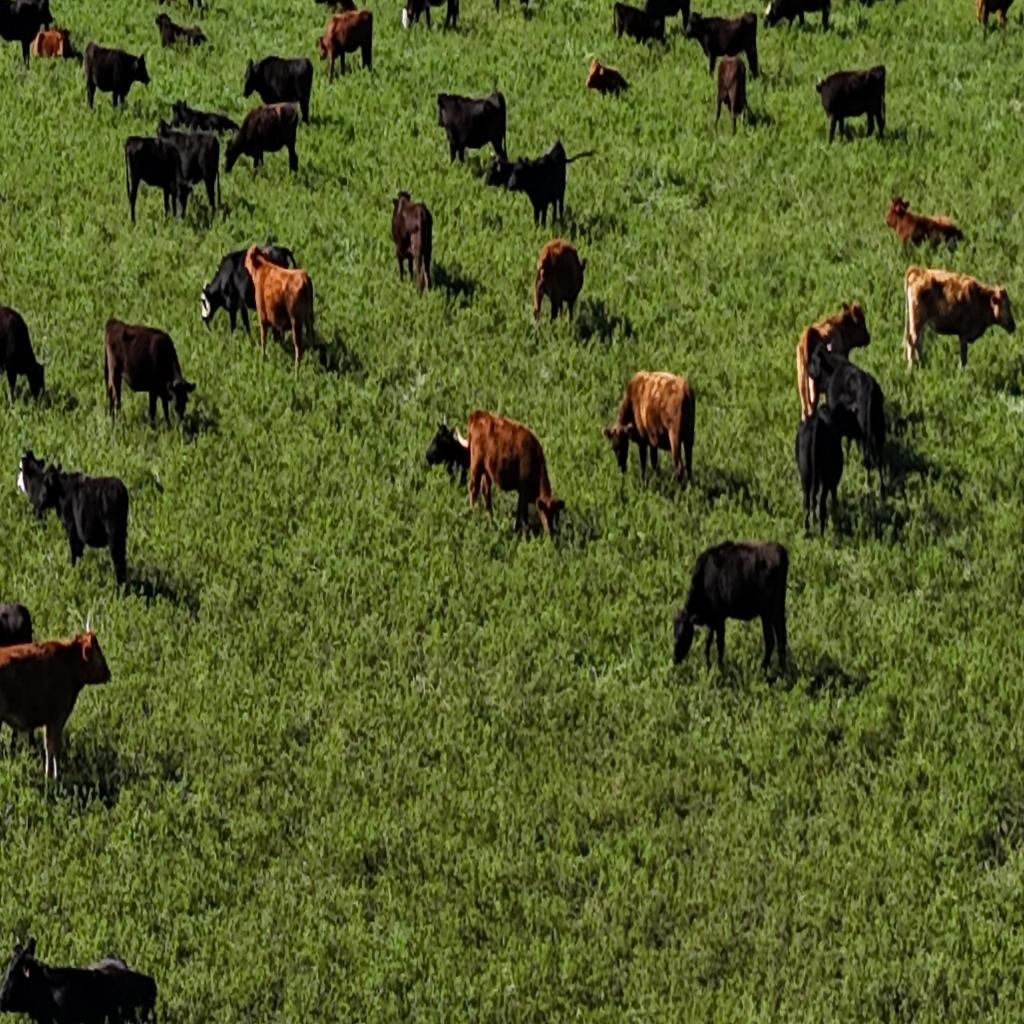cow: (650, 528, 833, 700), (0, 611, 112, 789), (21, 454, 138, 588), (464, 407, 568, 544), (2, 933, 156, 1024), (809, 339, 909, 463), (602, 368, 696, 490), (904, 266, 1014, 370), (105, 318, 198, 434), (790, 397, 856, 546), (200, 240, 293, 335), (479, 131, 567, 230), (125, 133, 214, 227), (226, 102, 300, 178), (816, 65, 887, 144), (437, 89, 505, 165), (686, 10, 758, 80), (243, 53, 312, 124), (533, 236, 586, 328), (0, 302, 45, 406), (84, 42, 150, 112), (884, 196, 962, 255), (391, 189, 433, 295), (318, 8, 372, 81), (0, 0, 55, 71), (424, 418, 470, 486), (715, 54, 753, 136), (166, 96, 240, 138), (613, 2, 663, 45), (764, 0, 830, 32), (154, 12, 206, 51), (401, 0, 456, 33), (643, 0, 692, 36), (586, 58, 627, 98), (975, 0, 1014, 36), (314, 0, 352, 15)
